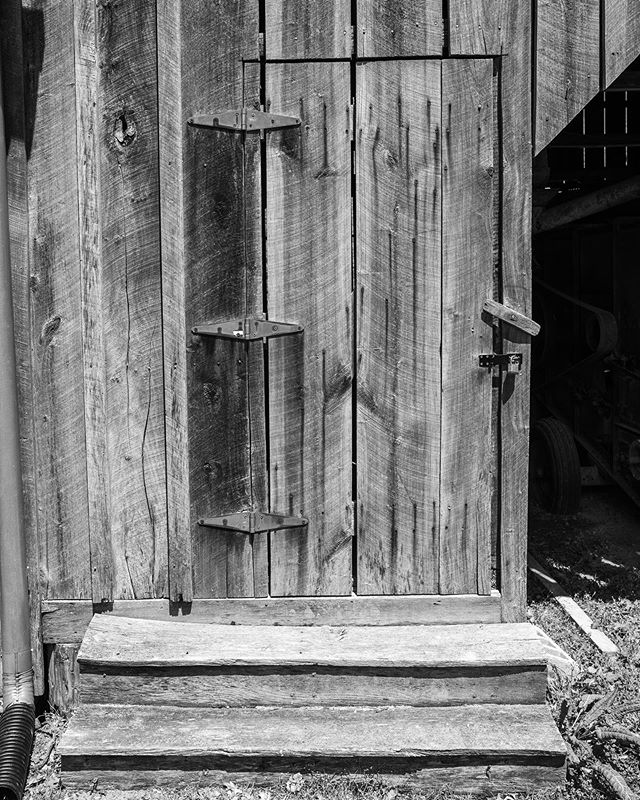door: (225, 19, 542, 641)
